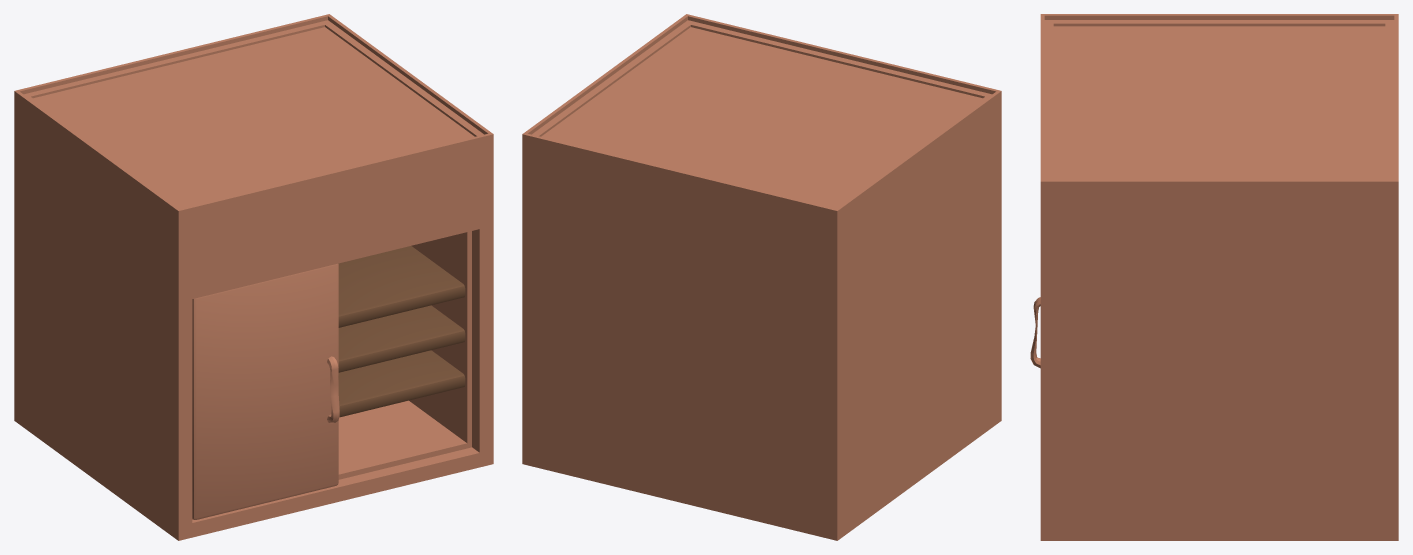
Rendered from Single Door Cabinet.fbx.
3 renders of one model, left to right at view 1: azimuth 30°, elevation 25°; view 2: azimuth 150°, elevation 25°; view 3: azimuth 270°, elevation 25°, orthographic. The views are drawn at different scales.
Visible parts, largest first — view 1: Single Door Cabinet, Single Cabinet; view 2: Single Door Cabinet; view 3: Single Door Cabinet.
Part boxes in pixels (x1,y1,x2,y2): Single Door Cabinet: (14,14,493,540); Single Cabinet: (192,263,339,519); Single Door Cabinet: (522,14,1001,540); Single Door Cabinet: (1040,14,1398,540).
Bounding box in the file's own units: 96.05 × 96.05 × 89.14.
